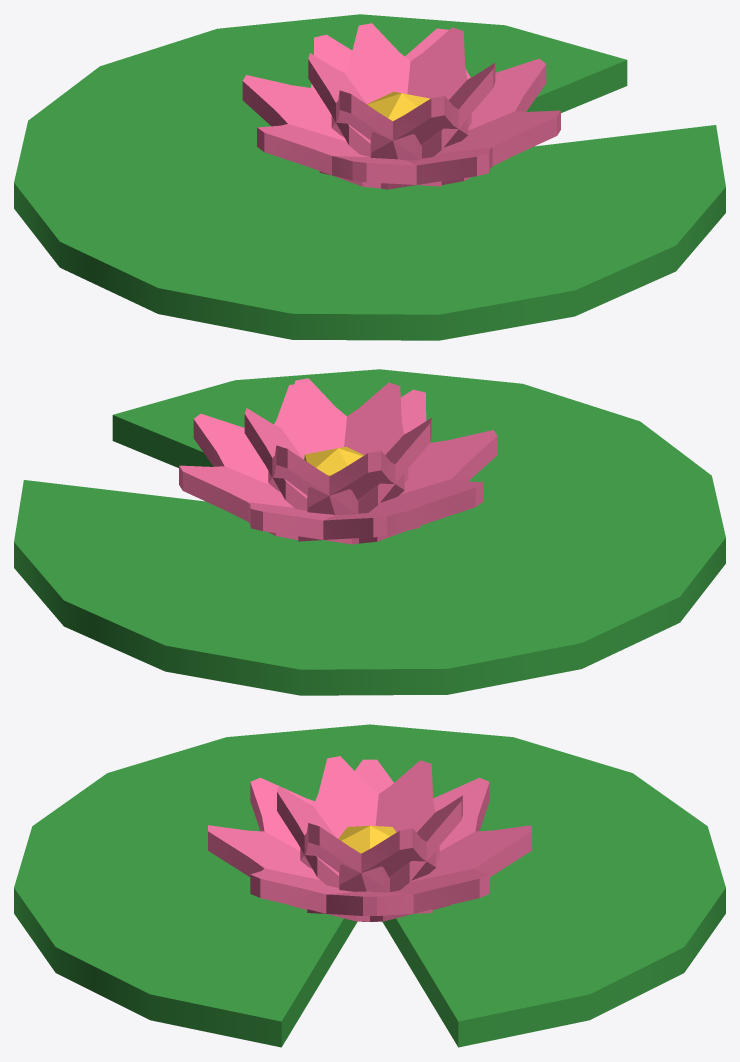
Rendered from LilyPadFlower.fbx.
3 views of the same model, one above another, from view 1: azimuth 30°, elevation 25°; view 2: azimuth 150°, elevation 25°; view 3: azimuth 270°, elevation 25° (orthographic).
Visible parts, largest first — view 1: LilyPadFlower_Pad, LilyPadFlower_Body, LilyPadFlower_Pollen; view 2: LilyPadFlower_Pad, LilyPadFlower_Body, LilyPadFlower_Pollen; view 3: LilyPadFlower_Pad, LilyPadFlower_Body, LilyPadFlower_Pollen.
Part boxes in pixels (left/top/right/bottom): LilyPadFlower_Pad: left=14, top=14, right=725, bottom=340; LilyPadFlower_Body: left=242, top=23, right=560, bottom=189; LilyPadFlower_Pollen: left=367, top=91, right=429, bottom=120; LilyPadFlower_Pad: left=14, top=369, right=725, bottom=695; LilyPadFlower_Body: left=179, top=378, right=497, bottom=544; LilyPadFlower_Pollen: left=304, top=446, right=364, bottom=475; LilyPadFlower_Pad: left=14, top=724, right=725, bottom=1047; LilyPadFlower_Body: left=208, top=756, right=531, bottom=921; LilyPadFlower_Pollen: left=338, top=825, right=396, bottom=853.
Size of the model in its own units: 197 by 38 by 199.
